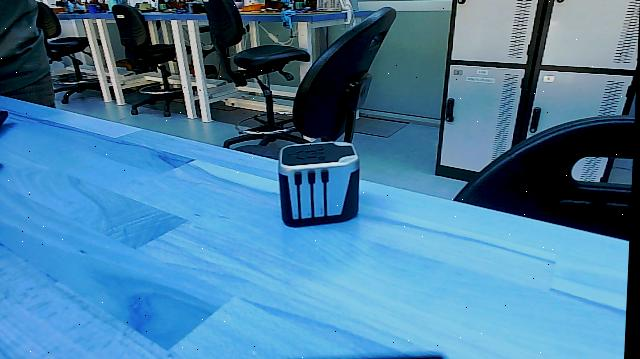adapter: (273, 139, 370, 233)
